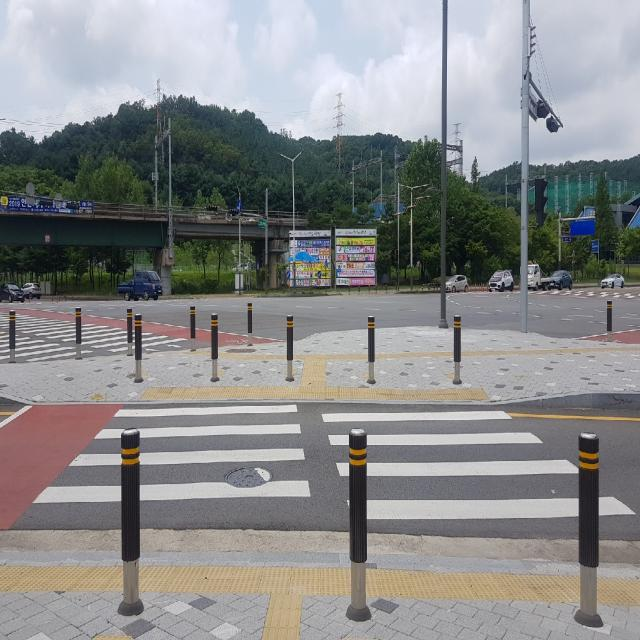횡단보도: (31, 402, 638, 522), (0, 307, 177, 362)
